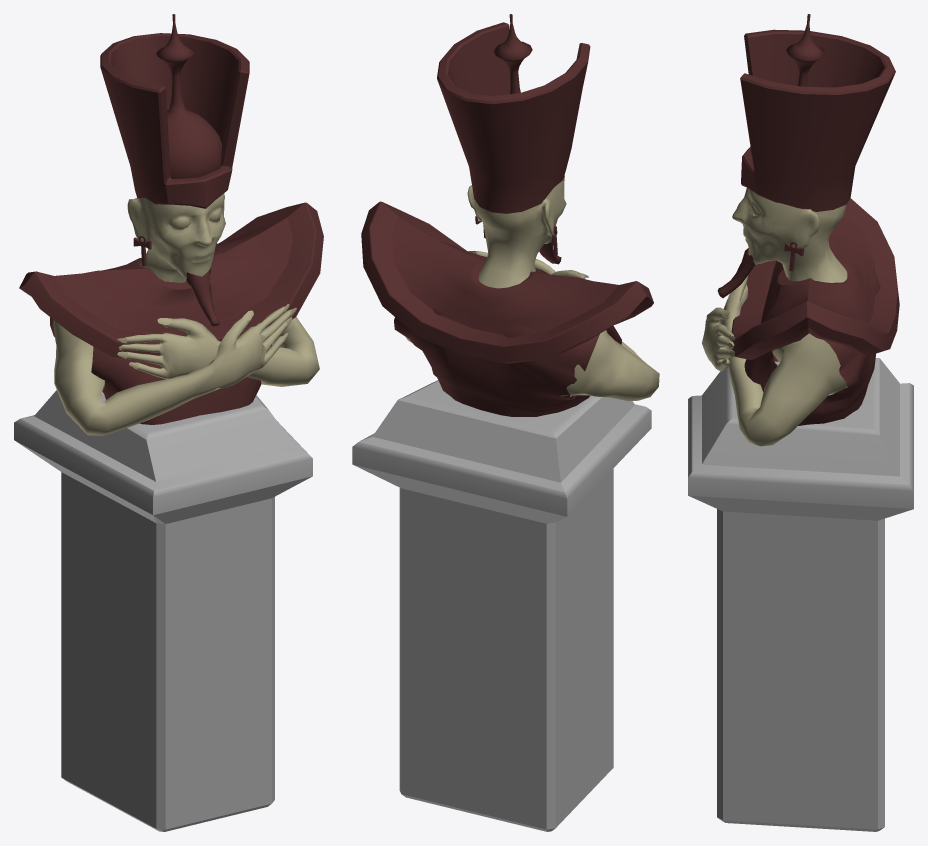
Rendered from P_BUSTO_SETH.fbx.
3 renders of one model, left to right at view 1: azimuth 30°, elevation 25°; view 2: azimuth 150°, elevation 25°; view 3: azimuth 270°, elevation 25°, orthographic.
Parts seen in each view (by area): view 1: Seth_Posado; view 2: Seth_Posado; view 3: Seth_Posado.
Part boxes in pixels (<box>): Seth_Posado: <box>14,14,323,831</box>; Seth_Posado: <box>352,14,659,831</box>; Seth_Posado: <box>688,14,913,831</box>.
Bounding box in the file's own units: 1.47 × 3.82 × 1.
